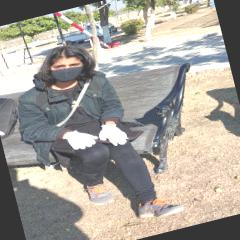gloved: (63, 126, 100, 153), (97, 120, 130, 150)
